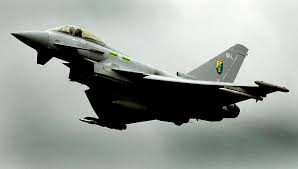fighter: (9, 22, 290, 134)
